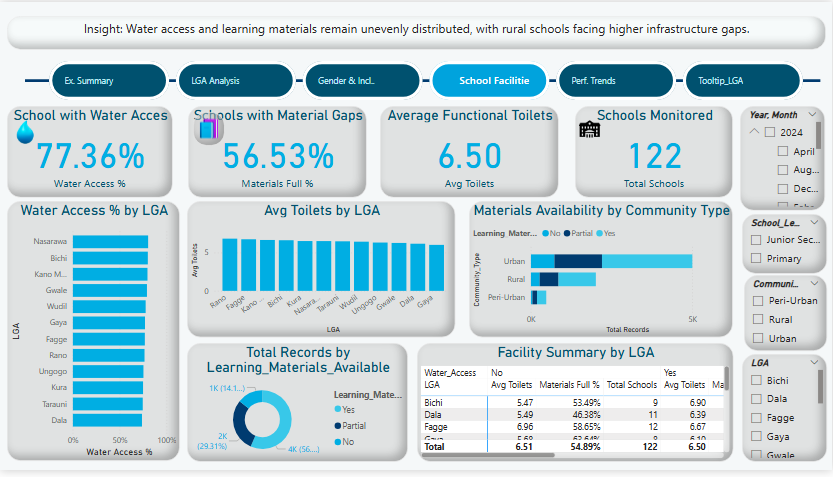

Layout of this report page (visuals, bound fields, positions):
{"tool":"powerbi","page":{"name":"School Facilitie","canvas":[1280,720],"ordinal":3},"visuals":[{"type":"textbox","box":[10.1,21.6,1260,51.8],"z":0},{"type":"card","title":"Average Functional Toilets","fields":{"Values":["Raw_Data.Avg Toilets"]},"box":[584.6,159.8,275,141.1],"z":1000},{"type":"card","title":"School with Water Acces","fields":{"Values":["Raw_Data.Water Access %"]},"box":[10.1,159.8,254.9,141.1],"z":2000},{"type":"clusteredBarChart","fields":{"Category":["Raw_Data.LGA"],"Y":["Raw_Data.Water Access %"]},"box":[10.1,306.7,266.4,400.3],"z":3000},{"type":"clusteredColumnChart","fields":{"Category":["Raw_Data.LGA"],"Y":["Raw_Data.Avg Toilets"]},"box":[288,306.7,413.3,210.2],"z":4000},{"type":"card","title":"Schools with Material Gaps","fields":{"Values":["Raw_Data.Materials Full %"]},"box":[289.4,159.8,275,141.1],"z":5000},{"type":"donutChart","fields":{"Category":["Raw_Data.Learning_Materials_Available"],"Y":["Raw_Data.Total Records"]},"box":[288,524.2,339.8,182.9],"z":6000},{"type":"card","title":"Schools Monitored","fields":{"Values":["Raw_Data.Total Schools"]},"box":[884.2,159.8,243.4,141.1],"z":7000},{"type":"barChart","title":"Materials Availability by Community Type","fields":{"Category":["Raw_Data.Community_Type"],"Y":["Raw_Data.Total Records"],"Series":["Raw_Data.Learning_Materials_Available"]},"box":[721.4,306.7,406.1,210.2],"z":8000},{"type":"pivotTable","title":"Facility Summary by LGA","fields":{"Rows":["Raw_Data.LGA"],"Columns":["Raw_Data.Water_Access"],"Values":["Raw_Data.Avg Toilets","Raw_Data.Materials Full %","Raw_Data.Total Schools"]},"box":[640.8,524.2,486.7,182.9],"z":9000},{"type":"slicer","fields":{"Values":["Raw_Data.Year","Raw_Data.Month"]},"box":[1139,159.8,131,161.3],"z":10000},{"type":"slicer","fields":{"Values":["Raw_Data.LGA"]},"box":[1141.9,541.4,131,165.6],"z":11000},{"type":"slicer","fields":{"Values":["Raw_Data.Community_Type"]},"box":[1144.8,420.5,128.2,116.6],"z":12000},{"type":"slicer","fields":{"Values":["Raw_Data.School_Level"]},"box":[1141.9,325.4,131,92.2],"z":13000},{"type":"image","box":[10.1,165.6,56.2,67.7],"z":14000},{"type":"image","box":[296.6,168.5,49,51.8],"z":15000},{"type":"image","box":[884.2,171.4,44.6,49],"z":16000},{"type":"shape","box":[38.9,90.7,1224,60.5],"z":17000},{"type":"pageNavigator","box":[74.9,90.3,1160.6,60.5],"z":18000}]}

Visuals, with their boxes in screenshot pixels (x1, y1, x2, y2), scaled from the page's 1280x720 canvas onto the 833x477 screenshot:
textbox: rect(7, 14, 827, 49)
"Average Functional Toilets" card: rect(380, 106, 559, 199)
"School with Water Acces" card: rect(7, 106, 172, 199)
clusteredBarChart - Raw_Data.LGA x Raw_Data.Water Access %: rect(7, 203, 180, 468)
clusteredColumnChart - Raw_Data.LGA x Raw_Data.Avg Toilets: rect(187, 203, 456, 342)
"Schools with Material Gaps" card: rect(188, 106, 367, 199)
donutChart - Raw_Data.Learning_Materials_Available x Raw_Data.Total Records: rect(187, 347, 409, 468)
"Schools Monitored" card: rect(575, 106, 734, 199)
"Materials Availability by Community Type" barChart: rect(469, 203, 734, 342)
"Facility Summary by LGA" pivotTable: rect(417, 347, 734, 468)
slicer - Raw_Data.Year x Raw_Data.Month: rect(741, 106, 826, 213)
slicer - Raw_Data.LGA: rect(743, 359, 828, 468)
slicer - Raw_Data.Community_Type: rect(745, 279, 828, 356)
slicer - Raw_Data.School_Level: rect(743, 216, 828, 277)
image: rect(7, 110, 43, 155)
image: rect(193, 112, 225, 146)
image: rect(575, 114, 604, 146)
shape: rect(25, 60, 822, 100)
pageNavigator: rect(49, 60, 804, 100)
